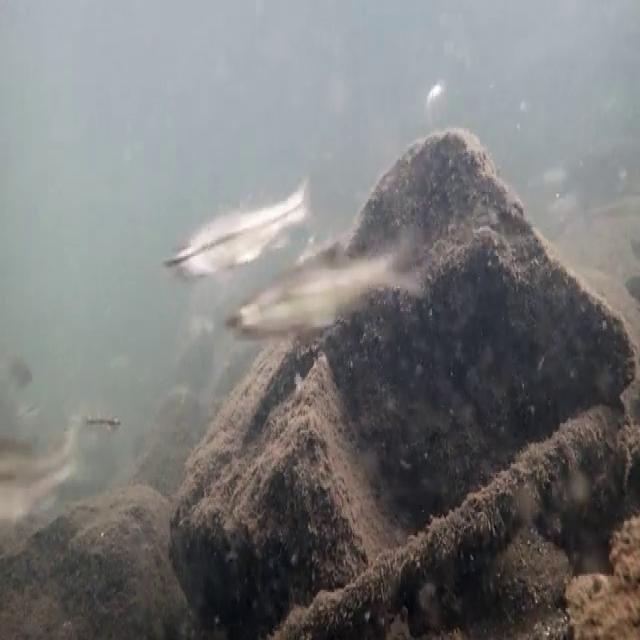Cakil Baligi: (230, 216, 414, 346), (173, 169, 311, 291), (80, 402, 128, 440)
